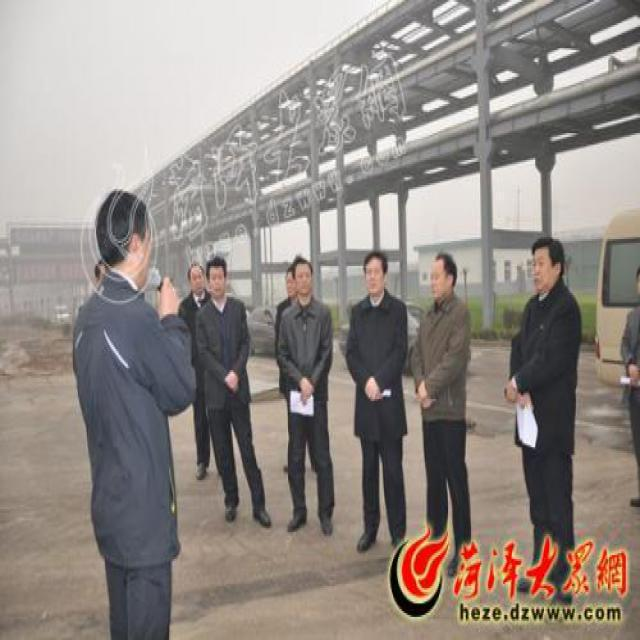head: (94, 184, 151, 294), (528, 230, 567, 296), (425, 248, 461, 304), (204, 252, 232, 306), (361, 248, 390, 300), (288, 248, 313, 300), (187, 253, 205, 298)
person: (57, 180, 195, 632), (497, 230, 597, 544), (190, 254, 288, 542), (335, 244, 416, 558), (411, 246, 491, 536), (279, 254, 352, 542)
